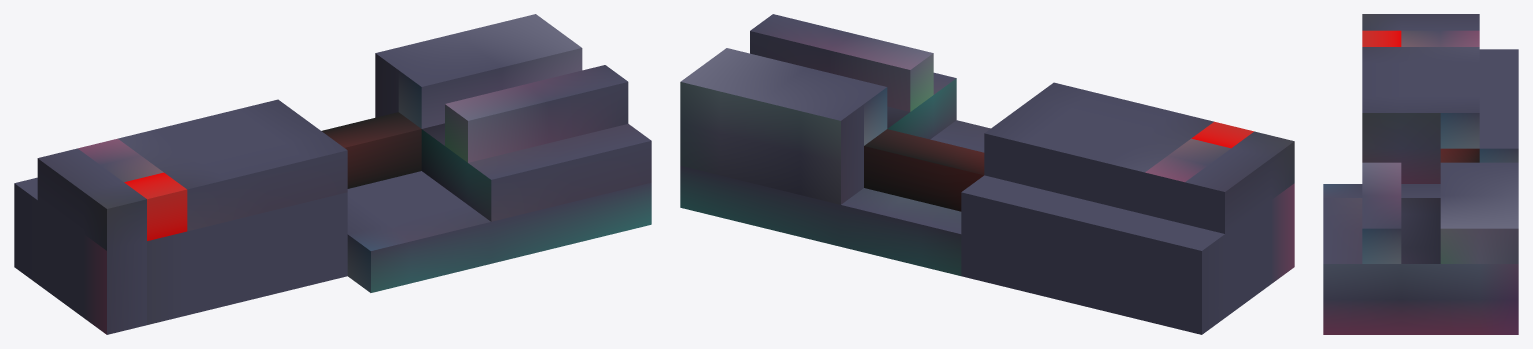
Rendered from Device_J_00.fbx.
3 views of the same model, side by side, from view 1: azimuth 30°, elevation 25°; view 2: azimuth 150°, elevation 25°; view 3: azimuth 270°, elevation 25° (orthographic). The views are drawn at different scales.
Visible parts, largest first — view 1: Device_J_00; view 2: Device_J_00; view 3: Device_J_00.
Boxes of the visible parts, left/top/right/bottom form: Device_J_00: left=14, top=14, right=651, bottom=334; Device_J_00: left=680, top=14, right=1294, bottom=334; Device_J_00: left=1323, top=14, right=1518, bottom=334.
Size of the model in its own units: 65 by 15 by 25.
